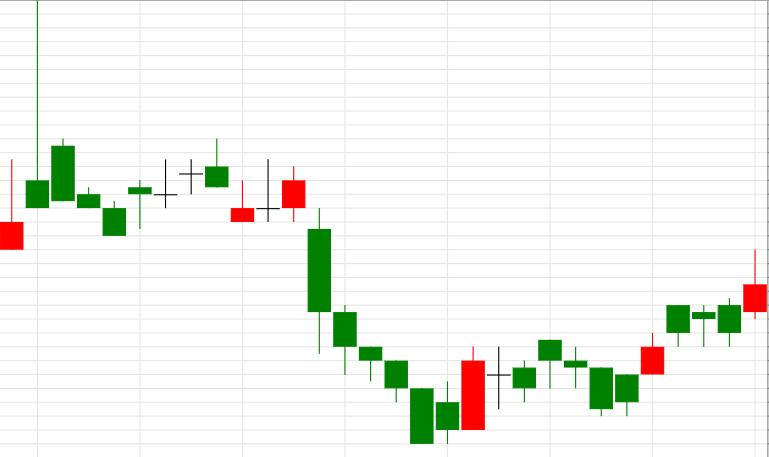shooting_star_fall: (615, 249, 768, 418)
